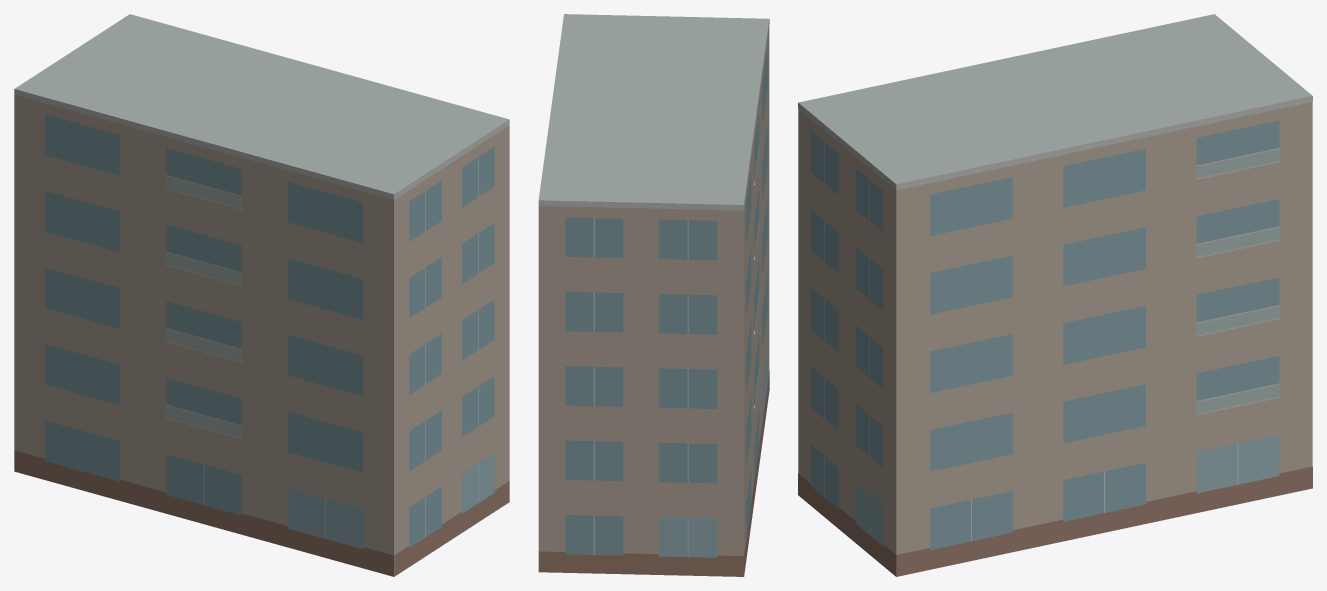
File: survey-upis-33012824.glb
The picture shows the model from 3 angles, left to right: view 1: azimuth 30°, elevation 25°; view 2: azimuth 150°, elevation 25°; view 3: azimuth 270°, elevation 25°; orthographic projection. The views are drawn at different scales.
Parts seen in each view (by area): view 1: survey-upis-33012824.tmp; view 2: survey-upis-33012824.tmp; view 3: survey-upis-33012824.tmp.
Part boxes in pixels (x1,y1,x2,y2): survey-upis-33012824.tmp: [14, 14, 509, 576]; survey-upis-33012824.tmp: [538, 14, 769, 576]; survey-upis-33012824.tmp: [798, 14, 1312, 576].
Size of the model in its own units: 14.99 by 16.1 by 19.14.
